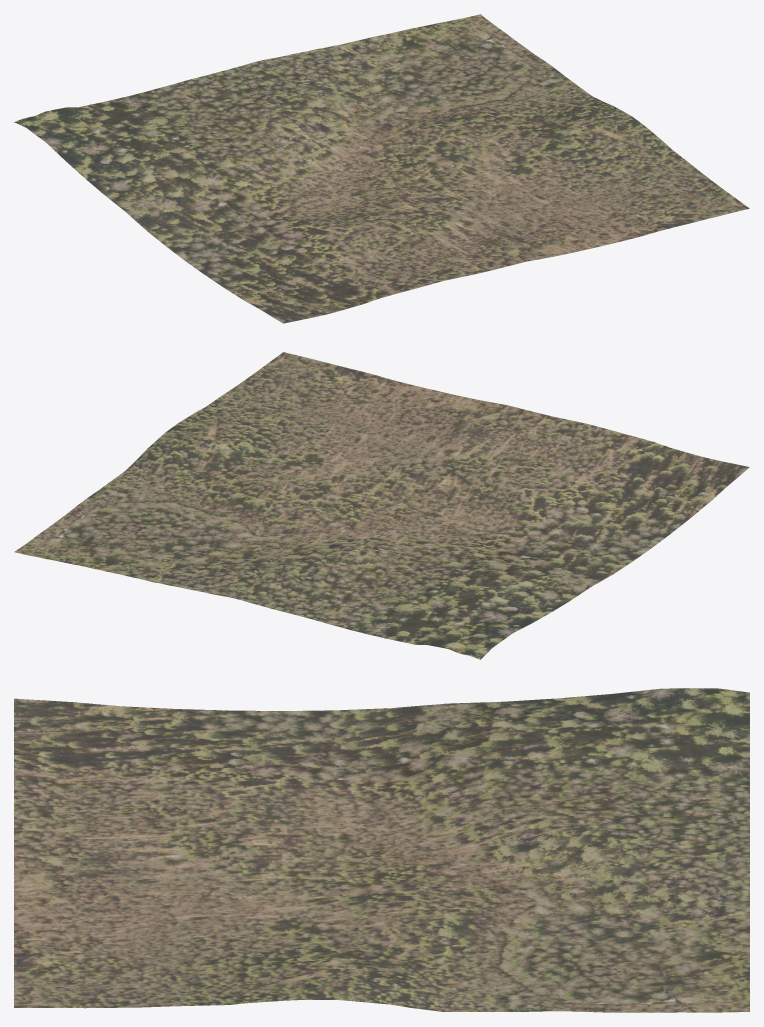
File: CM_Terrain_24493121_6814264.fbx
3 views of the same model, one above another, from view 1: azimuth 30°, elevation 25°; view 2: azimuth 150°, elevation 25°; view 3: azimuth 270°, elevation 25° (orthographic). The views are drawn at different scales.
Parts seen in each view (by area): view 1: CM_Terrain_24493121_6814264_LOD0; view 2: CM_Terrain_24493121_6814264_LOD0; view 3: CM_Terrain_24493121_6814264_LOD0.
Part boxes in pixels (box(x1,y1,x2,y2)): CM_Terrain_24493121_6814264_LOD0: box(14, 14, 749, 323); CM_Terrain_24493121_6814264_LOD0: box(14, 352, 749, 659); CM_Terrain_24493121_6814264_LOD0: box(14, 688, 749, 1012).
Size of what is drawn, in the model's own units: 205 by 7.46 by 205.
